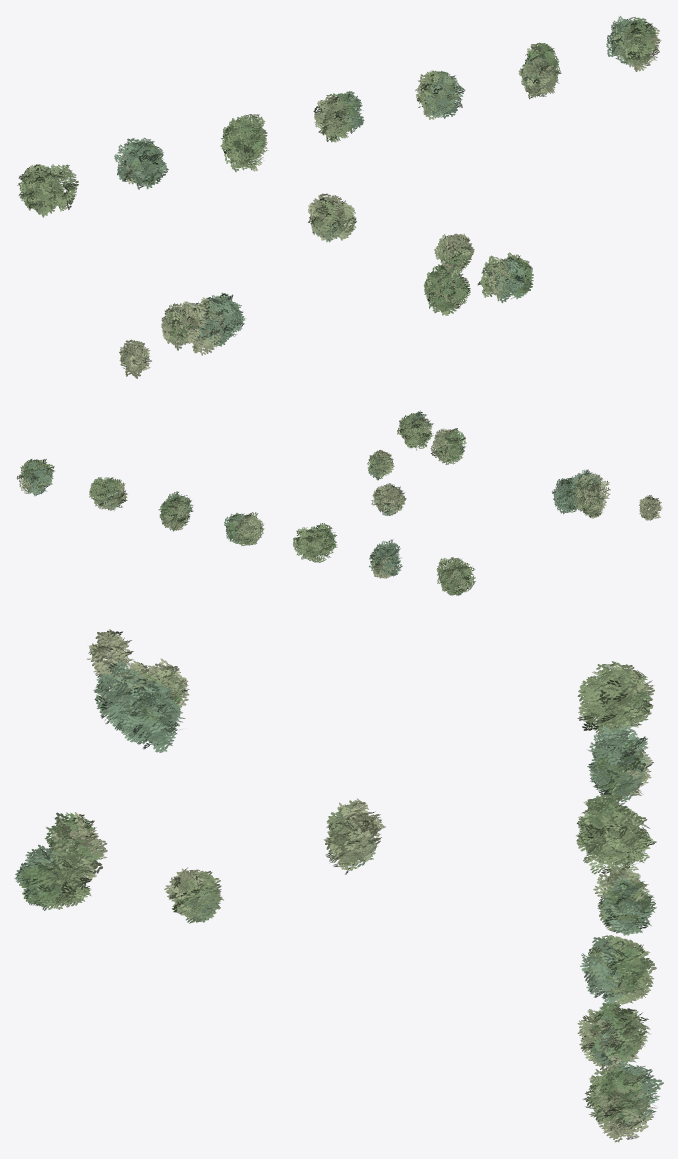
Rendered from campus-tree--4_-4-near.glb.
3 views of the same model, one above another, from view 1: azimuth 30°, elevation 25°; view 2: azimuth 150°, elevation 25°; view 3: azimuth 270°, elevation 25° (orthographic). The views are drawn at different scales.
Visible parts, largest first — view 1: Campus leaf canopy; view 2: Campus leaf canopy; view 3: Campus leaf canopy.
Part boxes in pixels (<box>): Campus leaf canopy: <box>17,16,661,378</box>; Campus leaf canopy: <box>16,410,662,595</box>; Campus leaf canopy: <box>14,629,663,1142</box>.
Bounding box in the file's own units: 82.88 × 7.12 × 46.37.
Materials: 1 (1 with a texture image).
